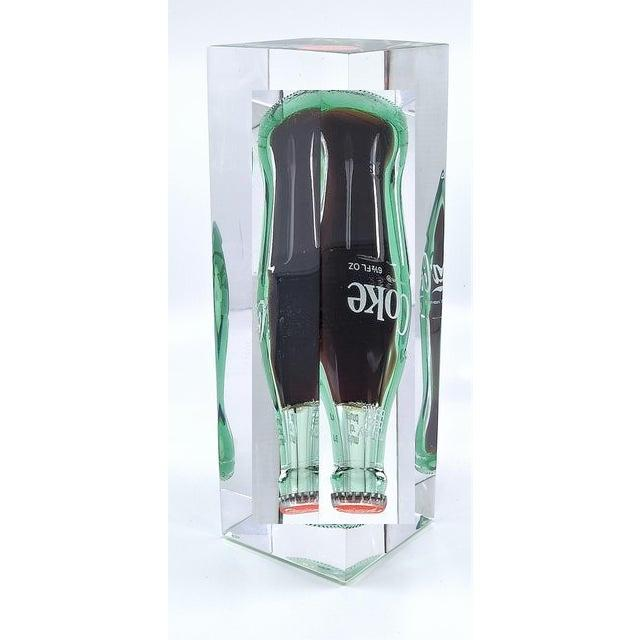coca-cola: (252, 90, 415, 524)
